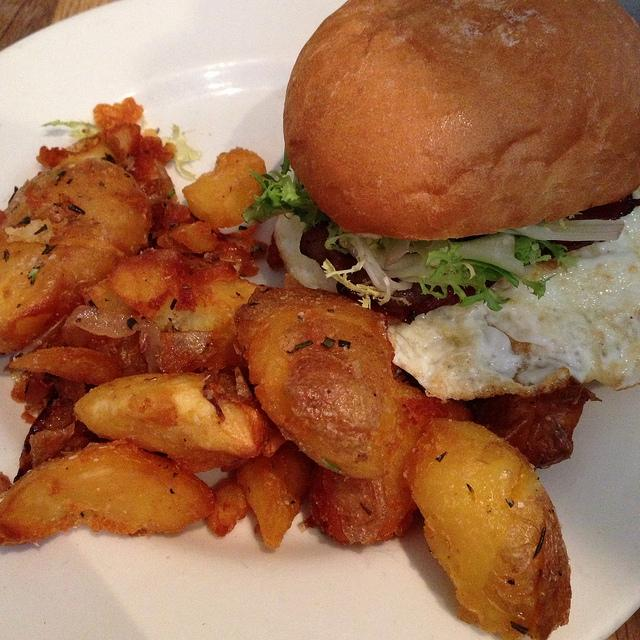lettuce: (452, 232, 556, 300), (419, 244, 509, 312), (274, 174, 301, 203), (266, 188, 282, 206)
potato: (403, 417, 572, 640), (234, 286, 404, 480), (0, 157, 153, 356), (308, 397, 472, 546), (0, 438, 216, 548), (105, 248, 267, 372), (73, 372, 270, 473), (461, 377, 604, 470), (236, 441, 317, 548), (182, 145, 266, 229), (14, 398, 74, 483), (8, 347, 122, 386), (203, 469, 251, 537), (157, 220, 219, 254), (66, 125, 125, 152)
